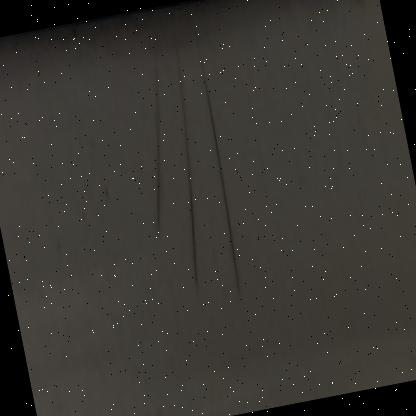Crack: (107, 0, 272, 343)
